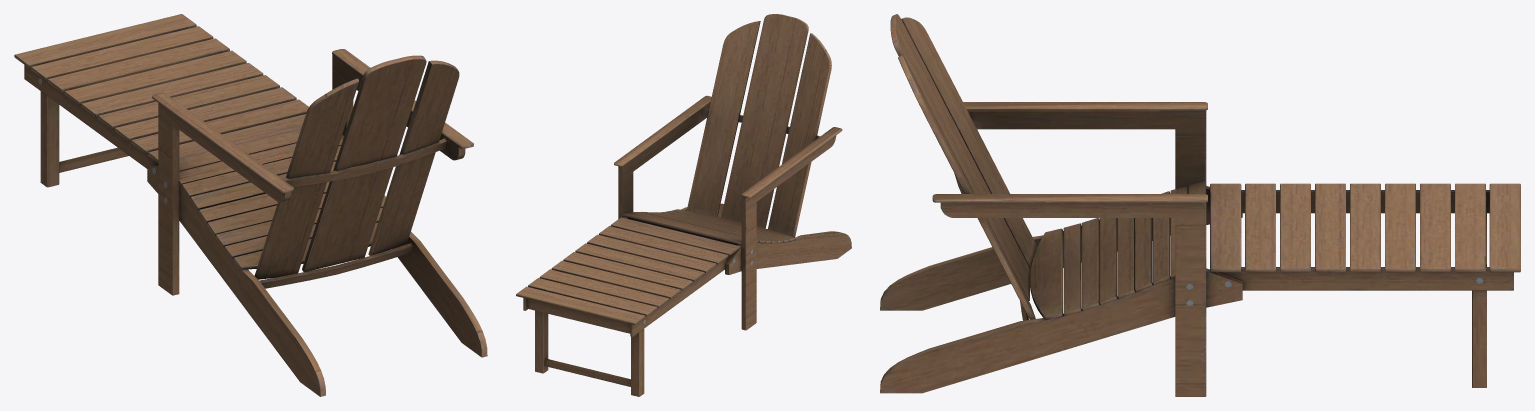
Rendered from chaise_longue.glb.
The picture shows the model from 3 angles, left to right: view 1: azimuth 30°, elevation 25°; view 2: azimuth 150°, elevation 25°; view 3: azimuth 270°, elevation 25°; orthographic projection. The views are drawn at different scales.
Parts seen in each view (by area): view 1: GardenLounger_LoungerTex_0; view 2: GardenLounger_LoungerTex_0; view 3: GardenLounger_LoungerTex_0.
Boxes of the visible parts, left/top/right/bottom form: GardenLounger_LoungerTex_0: left=14, top=14, right=487, bottom=396; GardenLounger_LoungerTex_0: left=516, top=14, right=851, bottom=396; GardenLounger_LoungerTex_0: left=880, top=14, right=1520, bottom=396.
Size of the model in its own units: 0.643 by 0.9925 by 1.76.
1 material, 1 textured.
